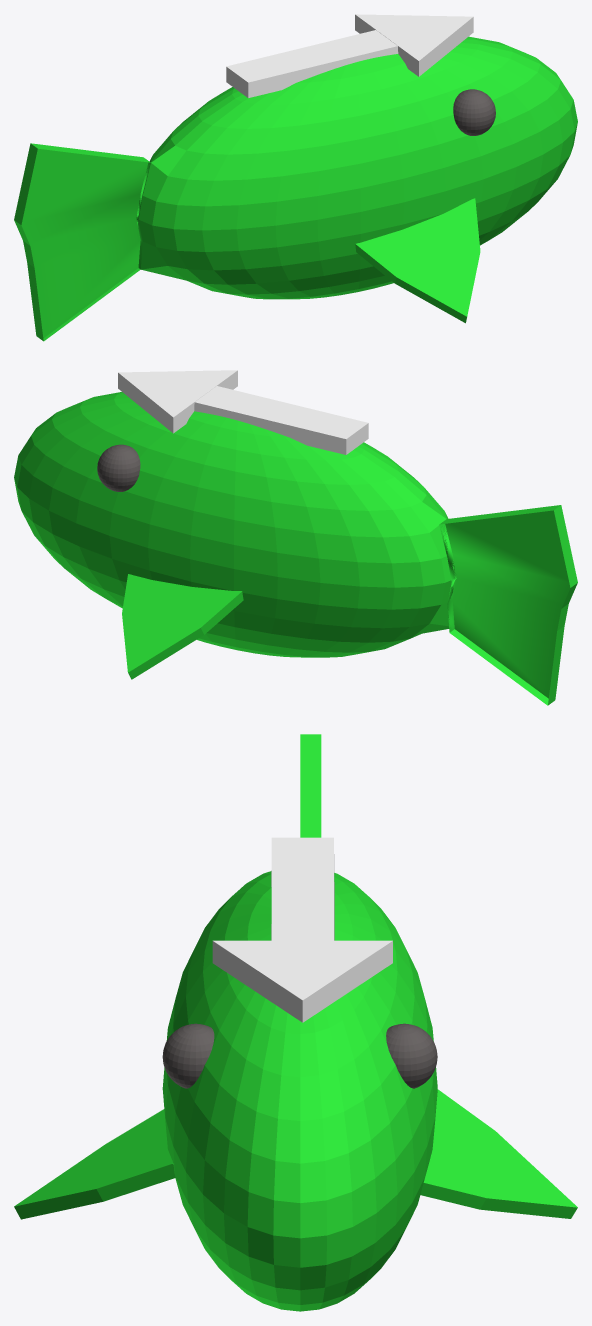
Rendered from MidFishGreen.fbx.
3 renders of one model, top to bottom at view 1: azimuth 30°, elevation 25°; view 2: azimuth 150°, elevation 25°; view 3: azimuth 270°, elevation 25°, orthographic. The views are drawn at different scales.
Parts seen in each view (by area): view 1: Сфера.004; view 2: Сфера.004; view 3: Сфера.004.
Boxes of the visible parts, x1,y1,x2,y2 form: Сфера.004: (14, 14, 577, 341); Сфера.004: (14, 370, 577, 705); Сфера.004: (14, 734, 577, 1311).
Size of the model in its own units: 508 by 209 by 318.
